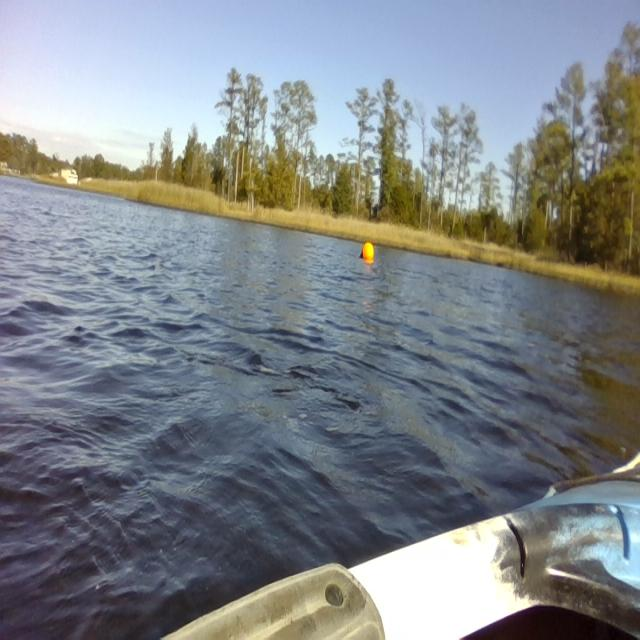Buoy: (359, 235, 377, 266)
